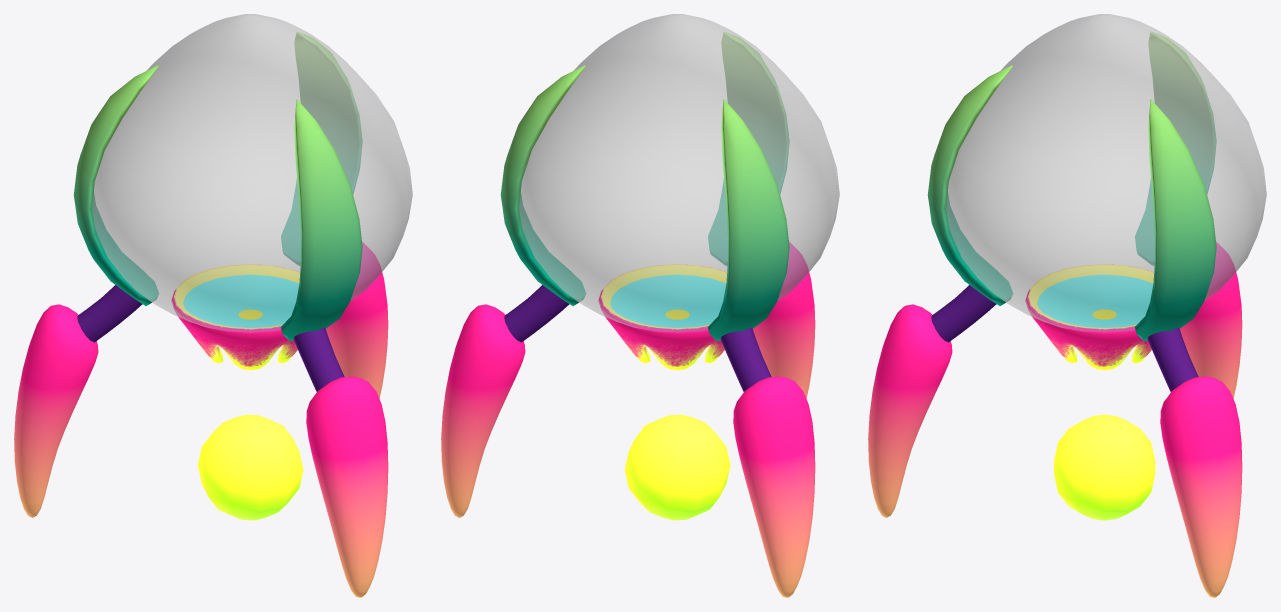
Rendered from Xormite_Spawner.fbx.
The picture shows the model from 3 angles, left to right: view 1: azimuth 30°, elevation 25°; view 2: azimuth 150°, elevation 25°; view 3: azimuth 270°, elevation 25°; orthographic projection.
Parts seen in each view (by area): view 1: Xormite_Spawner, Egg; view 2: Xormite_Spawner, Egg; view 3: Xormite_Spawner, Egg.
Boxes of the visible parts, bbox=[...] form: Xormite_Spawner: bbox=[14, 14, 412, 597]; Egg: bbox=[198, 414, 303, 520]; Xormite_Spawner: bbox=[441, 14, 839, 597]; Egg: bbox=[625, 414, 730, 520]; Xormite_Spawner: bbox=[868, 14, 1266, 597]; Egg: bbox=[1054, 414, 1155, 520].
Size of what is drawn, in the model's own units: 195 by 257 by 185.
